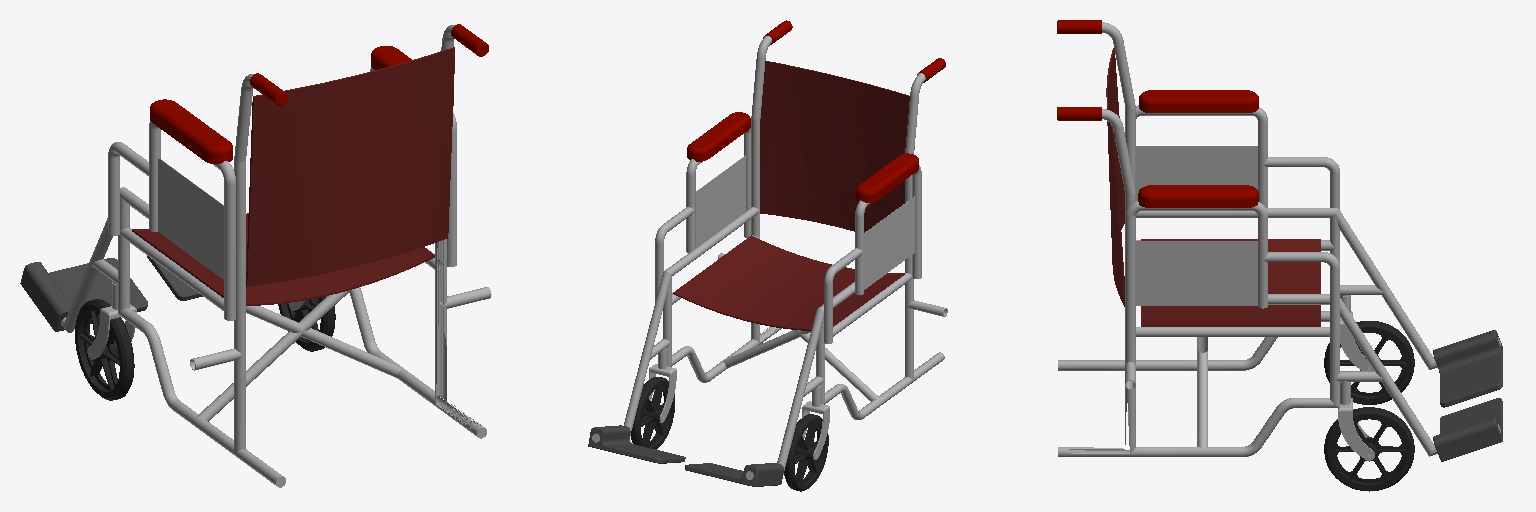
The robot description file, URDF, robot "my_robot":
<?xml version="1.0"?>
<!--
  Robot: my_robot
  Generated by: LinkForge v1.2.3
  https://github.com/arounamounchili/linkforge
  Date: 2026-02-17 03:53:01
-->
<robot name="my_robot">
  <!-- Materials -->
  <material name="b_Frame_001_">
    <color rgba="0.705882 0.705882 0.713726 1" />
  </material>
  <material name="b_Caster_fork_001_001">
    <color rgba="0.705882 0.705882 0.713726 1" />
  </material>
  <material name="b_Footplate_001_">
    <color rgba="0.329412 0.329412 0.329412 1" />
  </material>
  <material name="b_Footplate_001_001">
    <color rgba="0.329412 0.329412 0.329412 1" />
  </material>
  <material name="b_Seat_001_">
    <color rgba="0.419608 0.156863 0.145098 1" />
  </material>
  <material name="b_Backrest_001_">
    <color rgba="0.419608 0.156863 0.145098 1" />
  </material>
  <material name="b_Side_panel_001_">
    <color rgba="0.705882 0.705882 0.713726 1" />
  </material>
  <material name="b_Side_panel_001_001">
    <color rgba="0.705882 0.705882 0.713726 1" />
  </material>
  <material name="b_Armrest_001_">
    <color rgba="0.576471 0.047059 0 1" />
  </material>
  <material name="b_Armrest_001_001">
    <color rgba="0.576471 0.047059 0 1" />
  </material>
  <material name="b_Push_handle_001_001">
    <color rgba="0.576471 0.047059 0 1" />
  </material>
  <material name="b_Push_handle_001_">
    <color rgba="0.576471 0.047059 0 1" />
  </material>
  <material name="b_Pin_001_001">
    <color rgba="0.8 0.8 0.8 1" />
  </material>
  <material name="b_Pin_001_">
    <color rgba="0.8 0.8 0.8 1" />
  </material>
  <material name="b_Rear_wheel_001_001">
    <color rgba="0.196078 0.196078 0.196078 1" />
  </material>
  <material name="b_Rear_wheel_001_">
    <color rgba="0.196078 0.196078 0.196078 1" />
  </material>
  <material name="b_Caster_wheel_001_">
    <color rgba="0.196078 0.196078 0.196078 1" />
  </material>
  <material name="b_Caster_wheel_001_001">
    <color rgba="0.196078 0.196078 0.196078 1" />
  </material>
  <!-- Links -->
  <link name="base_link">
    <visual>
      <origin xyz="0.2159 -0.455574 -0.326007" rpy="0 0 0" />
      <geometry>
        <mesh filename="package://wheelchair_description/meshes/base_link_visual.stl" />
      </geometry>
      <material name="b_Frame_001_" />
    </visual>
    <collision>
      <origin xyz="0.2159 -0.455578 -0.326007" rpy="0 0 0" />
      <geometry>
        <mesh filename="package://wheelchair_description/meshes/base_link_collision.stl" />
      </geometry>
    </collision>
    <inertial>
      <mass value="1" />
      <inertia ixx="0.089727" ixy="0" ixz="0" iyy="0.062793" iyz="0.020276" izz="0.072745" />
    </inertial>
  </link>
  <link name="right_caster">
    <visual>
      <origin xyz="0.4318 -0.293335 -0.633983" rpy="0 0 0" />
      <geometry>
        <mesh filename="package://wheelchair_description/meshes/right_caster_visual.stl" />
      </geometry>
      <material name="b_Caster_fork_001_001" />
    </visual>
    <collision>
      <origin xyz="0.4318 -0.293335 -0.633983" rpy="0 0 0" />
      <geometry>
        <mesh filename="package://wheelchair_description/meshes/right_caster_collision.stl" />
      </geometry>
    </collision>
    <inertial>
      <mass value="1" />
      <inertia ixx="0.002167" ixy="0" ixz="0" iyy="0.002068" iyz="0.000541" izz="0.000631" />
    </inertial>
  </link>
  <link name="left_caster">
    <visual>
      <origin xyz="0 -0.293335 -0.633983" rpy="0 0 0" />
      <geometry>
        <mesh filename="package://wheelchair_description/meshes/left_caster_visual.stl" />
      </geometry>
      <material name="b_Caster_fork_001_001" />
    </visual>
    <collision>
      <origin xyz="0 -0.293335 -0.633983" rpy="0 0 0" />
      <geometry>
        <mesh filename="package://wheelchair_description/meshes/left_caster_collision.stl" />
      </geometry>
    </collision>
    <inertial>
      <mass value="1" />
      <inertia ixx="0.002167" ixy="0" ixz="0" iyy="0.002068" iyz="0.000541" izz="0.000631" />
    </inertial>
  </link>
  <link name="right_pedal">
    <visual>
      <origin xyz="0.34925 -0.057806 -0.687826" rpy="0 0 0" />
      <geometry>
        <mesh filename="package://wheelchair_description/meshes/right_pedal_visual.stl" />
      </geometry>
      <material name="b_Footplate_001_" />
    </visual>
    <collision>
      <origin xyz="0.34925 -0.057806 -0.687826" rpy="0 0 0" />
      <geometry>
        <mesh filename="package://wheelchair_description/meshes/right_pedal_collision.stl" />
      </geometry>
    </collision>
    <inertial>
      <mass value="1" />
      <inertia ixx="0.001777" ixy="0.000099" ixz="-0.000273" iyy="0.003236" iyz="-0.000468" izz="0.00435" />
    </inertial>
  </link>
  <link name="left_pedal">
    <visual>
      <origin xyz="0.08255 -0.057806 -0.687826" rpy="0 0 0" />
      <geometry>
        <mesh filename="package://wheelchair_description/meshes/left_pedal_visual.stl" />
      </geometry>
      <material name="b_Footplate_001_001" />
    </visual>
    <collision>
      <origin xyz="0.08255 -0.057806 -0.687826" rpy="0 0 0" />
      <geometry>
        <mesh filename="package://wheelchair_description/meshes/left_pedal_collision.stl" />
      </geometry>
    </collision>
    <inertial>
      <mass value="1" />
      <inertia ixx="0.001777" ixy="-0.000099" ixz="0.000273" iyy="0.003236" iyz="-0.000468" izz="0.00435" />
    </inertial>
  </link>
  <link name="seat">
    <visual>
      <origin xyz="0.216573 -0.558772 -0.439478" rpy="0 0 0" />
      <geometry>
        <mesh filename="package://wheelchair_description/meshes/seat_visual.stl" />
      </geometry>
      <material name="b_Seat_001_" />
    </visual>
    <collision>
      <origin xyz="0.216573 -0.558772 -0.439478" rpy="0 0 0" />
      <geometry>
        <mesh filename="package://wheelchair_description/meshes/seat_collision.stl" />
      </geometry>
    </collision>
    <inertial>
      <mass value="1" />
      <inertia ixx="0.012154" ixy="0" ixz="-0.000008" iyy="0.010543" iyz="0" izz="0.022582" />
    </inertial>
  </link>
  <link name="back">
    <visual>
      <origin xyz="0.224352 -0.79993 -0.177682" rpy="0 0 0" />
      <geometry>
        <mesh filename="package://wheelchair_description/meshes/back_visual.stl" />
      </geometry>
      <material name="b_Backrest_001_" />
    </visual>
    <collision>
      <origin xyz="0.224352 -0.79993 -0.177682" rpy="0 0 0" />
      <geometry>
        <mesh filename="package://wheelchair_description/meshes/back_collision.stl" />
      </geometry>
    </collision>
    <inertial>
      <mass value="1" />
      <inertia ixx="0.013019" ixy="0.000002" ixz="-0.000024" iyy="0.024066" iyz="0.000649" izz="0.011195" />
    </inertial>
  </link>
  <link name="right_panel">
    <visual>
      <origin xyz="0.453228 -0.554478 -0.282352" rpy="0 0 0" />
      <geometry>
        <mesh filename="package://wheelchair_description/meshes/right_panel_visual.stl" />
      </geometry>
      <material name="b_Side_panel_001_" />
    </visual>
    <collision>
      <origin xyz="0.453228 -0.554478 -0.282352" rpy="0 0 0" />
      <geometry>
        <mesh filename="package://wheelchair_description/meshes/right_panel_collision.stl" />
      </geometry>
    </collision>
    <inertial>
      <mass value="1" />
      <inertia ixx="0.022916" ixy="0" ixz="0" iyy="0.007613" iyz="0.001771" izz="0.015384" />
    </inertial>
  </link>
  <link name="left_panel">
    <visual>
      <origin xyz="-0.021428 -0.554478 -0.282352" rpy="0 0 0" />
      <geometry>
        <mesh filename="package://wheelchair_description/meshes/left_panel_visual.stl" />
      </geometry>
      <material name="b_Side_panel_001_001" />
    </visual>
    <collision>
      <origin xyz="-0.021428 -0.554478 -0.282352" rpy="0 0 0" />
      <geometry>
        <mesh filename="package://wheelchair_description/meshes/left_panel_collision.stl" />
      </geometry>
    </collision>
    <inertial>
      <mass value="1" />
      <inertia ixx="0.022916" ixy="0" ixz="0" iyy="0.007613" iyz="0.001771" izz="0.015384" />
    </inertial>
  </link>
  <link name="right_armrest">
    <visual>
      <origin xyz="0.453217 -0.626837 -0.113286" rpy="0 0 0" />
      <geometry>
        <mesh filename="package://wheelchair_description/meshes/right_armrest_visual.stl" />
      </geometry>
      <material name="b_Armrest_001_" />
    </visual>
    <collision>
      <origin xyz="0.453217 -0.626837 -0.113286" rpy="0 0 0" />
      <geometry>
        <mesh filename="package://wheelchair_description/meshes/right_armrest_collision.stl" />
      </geometry>
    </collision>
    <inertial>
      <mass value="1" />
      <inertia ixx="0.004929" ixy="0" ixz="0" iyy="0.000325" iyz="0" izz="0.005095" />
    </inertial>
  </link>
  <link name="left_armrest">
    <visual>
      <origin xyz="-0.021373 -0.625889 -0.113303" rpy="0 0 0" />
      <geometry>
        <mesh filename="package://wheelchair_description/meshes/left_armrest_visual.stl" />
      </geometry>
      <material name="b_Armrest_001_001" />
    </visual>
    <collision>
      <origin xyz="-0.021373 -0.625889 -0.113303" rpy="0 0 0" />
      <geometry>
        <mesh filename="package://wheelchair_description/meshes/left_armrest_collision.stl" />
      </geometry>
    </collision>
    <inertial>
      <mass value="1" />
      <inertia ixx="0.004929" ixy="0" ixz="0.000001" iyy="0.000325" iyz="0" izz="0.005095" />
    </inertial>
  </link>
  <link name="right_handle">
    <visual>
      <origin xyz="0.4318 -0.878328 0.067693" rpy="0 0 0" />
      <geometry>
        <mesh filename="package://wheelchair_description/meshes/right_handle_visual.stl" />
      </geometry>
      <material name="b_Push_handle_001_001" />
    </visual>
    <collision>
      <origin xyz="0.4318 -0.878328 0.067693" rpy="0 0 0" />
      <geometry>
        <mesh filename="package://wheelchair_description/meshes/right_handle_collision.stl" />
      </geometry>
    </collision>
    <inertial>
      <mass value="1" />
      <inertia ixx="0.000804" ixy="0" ixz="0" iyy="0.000102" iyz="0" izz="0.000804" />
    </inertial>
  </link>
  <link name="left_handle">
    <visual>
      <origin xyz="0 -0.878328 0.067693" rpy="0 0 0" />
      <geometry>
        <mesh filename="package://wheelchair_description/meshes/left_handle_visual.stl" />
      </geometry>
      <material name="b_Push_handle_001_" />
    </visual>
    <collision>
      <origin xyz="0 -0.878328 0.067693" rpy="0 0 0" />
      <geometry>
        <mesh filename="package://wheelchair_description/meshes/left_handle_collision.stl" />
      </geometry>
    </collision>
    <inertial>
      <mass value="1" />
      <inertia ixx="0.000804" ixy="0" ixz="0" iyy="0.000102" iyz="0" izz="0.000804" />
    </inertial>
  </link>
  <link name="right_pin">
    <visual>
      <origin xyz="0.4318 -0.266347 -0.713358" rpy="0 0 0" />
      <geometry>
        <mesh filename="package://wheelchair_description/meshes/right_pin_visual.stl" />
      </geometry>
      <material name="b_Pin_001_001" />
    </visual>
    <collision>
      <origin xyz="0.4318 -0.266347 -0.713358" rpy="0 0 0" />
      <geometry>
        <mesh filename="package://wheelchair_description/meshes/right_pin_collision.stl" />
      </geometry>
    </collision>
    <inertial>
      <mass value="1" />
      <inertia ixx="0.000008" ixy="0" ixz="0" iyy="0.000307" iyz="0" izz="0.000307" />
    </inertial>
  </link>
  <link name="left_pin">
    <visual>
      <origin xyz="0 -0.266347 -0.713358" rpy="0 0 0" />
      <geometry>
        <mesh filename="package://wheelchair_description/meshes/left_pin_visual.stl" />
      </geometry>
      <material name="b_Pin_001_" />
    </visual>
    <collision>
      <origin xyz="0 -0.266347 -0.713358" rpy="0 0 0" />
      <geometry>
        <mesh filename="package://wheelchair_description/meshes/left_pin_collision.stl" />
      </geometry>
    </collision>
    <inertial>
      <mass value="1" />
      <inertia ixx="0.000008" ixy="0" ixz="0" iyy="0.000307" iyz="0" izz="0.000307" />
    </inertial>
  </link>
  <link name="rightbackwheel">
    <visual>
      <origin xyz="-0.028701 -0.000077 -0.000413" rpy="0 0 0" />
      <geometry>
        <mesh filename="package://wheelchair_description/meshes/rightbackwheel_visual.stl" />
      </geometry>
      <material name="b_Rear_wheel_001_001" />
    </visual>
    <collision>
      <origin xyz="-0.028701 -0.000077 -0.000413" rpy="0 0 0" />
      <geometry>
        <mesh filename="package://wheelchair_description/meshes/rightbackwheel_collision.stl" />
      </geometry>
    </collision>
    <inertial>
      <mass value="1" />
      <inertia ixx="0.040936" ixy="0" ixz="0" iyy="0.020867" iyz="0" izz="0.020867" />
    </inertial>
  </link>
  <link name="leftbackwheel">
    <visual>
      <origin xyz="0.028684 0.000118 -0.000308" rpy="0 0 0" />
      <geometry>
        <mesh filename="package://wheelchair_description/meshes/leftbackwheel_visual.stl" />
      </geometry>
      <material name="b_Rear_wheel_001_" />
    </visual>
    <collision>
      <origin xyz="0.028684 0.000118 -0.000308" rpy="0 0 0" />
      <geometry>
        <mesh filename="package://wheelchair_description/meshes/leftbackwheel_collision.stl" />
      </geometry>
    </collision>
    <inertial>
      <mass value="1" />
      <inertia ixx="0.040937" ixy="0" ixz="0" iyy="0.020867" iyz="0" izz="0.020867" />
    </inertial>
  </link>
  <link name="leftfrontwheel">
    <visual>
      <origin xyz="0 0 -0.000052" rpy="0 0 0" />
      <geometry>
        <mesh filename="package://wheelchair_description/meshes/leftfrontwheel_visual.stl" />
      </geometry>
      <material name="b_Caster_wheel_001_" />
    </visual>
    <collision>
      <origin xyz="0 0 -0.000052" rpy="0 0 0" />
      <geometry>
        <mesh filename="package://wheelchair_description/meshes/leftfrontwheel_collision.stl" />
      </geometry>
    </collision>
    <inertial>
      <mass value="1" />
      <inertia ixx="0.003811" ixy="0" ixz="0" iyy="0.002029" iyz="0" izz="0.002029" />
    </inertial>
  </link>
  <link name="rightfrontwheel">
    <visual>
      <origin xyz="0.000002 0 -0.000052" rpy="0 0 0" />
      <geometry>
        <mesh filename="package://wheelchair_description/meshes/rightfrontwheel_visual.stl" />
      </geometry>
      <material name="b_Caster_wheel_001_001" />
    </visual>
    <collision>
      <origin xyz="0.000002 0 -0.000052" rpy="0 0 0" />
      <geometry>
        <mesh filename="package://wheelchair_description/meshes/rightfrontwheel_collision.stl" />
      </geometry>
    </collision>
    <inertial>
      <mass value="1" />
      <inertia ixx="0.003811" ixy="0" ixz="0" iyy="0.002029" iyz="0" izz="0.002029" />
    </inertial>
  </link>
  <!-- Joints -->
  <joint name="right_caster_joint" type="fixed">
    <parent link="base_link" />
    <child link="right_caster" />
  </joint>
  <joint name="left_caster_joint" type="fixed">
    <parent link="base_link" />
    <child link="left_caster" />
  </joint>
  <joint name="right_pedal_joint" type="fixed">
    <parent link="base_link" />
    <child link="right_pedal" />
  </joint>
  <joint name="left_pedal_joint" type="fixed">
    <parent link="base_link" />
    <child link="left_pedal" />
  </joint>
  <joint name="seat_joint" type="fixed">
    <parent link="base_link" />
    <child link="seat" />
  </joint>
  <joint name="back_joint" type="fixed">
    <parent link="base_link" />
    <child link="back" />
  </joint>
  <joint name="right_panel_joint" type="fixed">
    <parent link="base_link" />
    <child link="right_panel" />
  </joint>
  <joint name="left_panel_joint" type="fixed">
    <parent link="base_link" />
    <child link="left_panel" />
  </joint>
  <joint name="right_armrest_joint" type="fixed">
    <parent link="right_panel" />
    <child link="right_armrest" />
  </joint>
  <joint name="left_armrest_joint" type="fixed">
    <parent link="left_panel" />
    <child link="left_armrest" />
  </joint>
  <joint name="right_handle_joint" type="fixed">
    <parent link="base_link" />
    <child link="right_handle" />
  </joint>
  <joint name="left_handle_joint" type="fixed">
    <parent link="base_link" />
    <child link="left_handle" />
  </joint>
  <joint name="right_pin_joint" type="fixed">
    <parent link="right_caster" />
    <child link="right_pin" />
  </joint>
  <joint name="left_pin_joint" type="fixed">
    <parent link="left_caster" />
    <child link="left_pin" />
  </joint>
  <joint name="rightbackwheel_joint" type="continuous">
    <origin xyz="0.52825 -0.7703 -0.516094" rpy="0 0 0" />
    <parent link="base_link" />
    <child link="rightbackwheel" />
    <axis xyz="1 0 0" />
    <limit effort="100" velocity="100" />
  </joint>
  <joint name="leftbackwheel_joint" type="continuous">
    <origin xyz="-0.096433 -0.770495 -0.516199" rpy="0 0 0" />
    <parent link="base_link" />
    <child link="leftbackwheel" />
    <axis xyz="1 0 0" />
    <limit effort="100" velocity="100" />
  </joint>
  <joint name="leftfrontwheel_joint" type="continuous">
    <origin xyz="0 -0.266347 -0.713306" rpy="0 0 0" />
    <parent link="left_caster" />
    <child link="leftfrontwheel" />
    <axis xyz="1 0 0" />
    <limit effort="100" velocity="100" />
  </joint>
  <joint name="rightfrontwheel_joint" type="continuous">
    <origin xyz="0.431798 -0.266347 -0.713306" rpy="0 0 0" />
    <parent link="right_caster" />
    <child link="rightfrontwheel" />
    <axis xyz="1 0 0" />
    <limit effort="100" velocity="100" />
  </joint>
</robot>

--- What the picture shows (computed from the rendered views, not written in the file) ---
The picture shows the robot from 3 angles, left to right: view 1: azimuth 30°, elevation 25°; view 2: azimuth 150°, elevation 25°; view 3: azimuth 270°, elevation 25°; orthographic projection.
Robot: my_robot — 19 links, 18 joints (4 continuous, 14 fixed); root link base_link; default pose: all joints at 0.
Visible links, largest first — view 1: back, base_link, left_panel, seat, leftfrontwheel, left_pedal, left_armrest, rightfrontwheel, right_panel, left_caster, right_pedal, right_armrest (+2 smaller); view 2: back, base_link, seat, left_panel, right_panel, leftfrontwheel, rightfrontwheel, right_pedal, right_armrest, left_armrest, left_pedal, right_caster (+1 smaller); view 3: base_link, right_panel, left_panel, seat, left_pedal, rightfrontwheel, right_pedal, right_armrest, left_armrest, back, leftfrontwheel, right_caster (+3 smaller).
Boxes of the visible links, x1,y1,x2,y2 form: back: (246,47,454,286); base_link: (61,25,491,487); left_panel: (108,121,235,320); seat: (132,213,434,305); leftfrontwheel: (75,299,134,400); left_pedal: (20,258,147,331); left_armrest: (150,99,232,163); rightfrontwheel: (278,296,335,351); right_panel: (370,67,456,266); left_caster: (87,281,136,359); right_pedal: (147,256,202,300); right_armrest: (371,46,453,105); back: (760,61,909,232); base_link: (592,36,947,479); seat: (673,235,904,330); left_panel: (824,165,921,343); right_panel: (655,128,750,297); leftfrontwheel: (784,414,828,491); rightfrontwheel: (630,377,674,449); right_pedal: (588,425,685,463); right_armrest: (687,112,750,161); left_armrest: (855,153,918,202); left_pedal: (685,463,783,486); right_caster: (648,348,676,422); base_link: (1058,22,1500,456); right_panel: (1125,201,1339,338); left_panel: (1136,105,1339,209); seat: (1141,239,1320,326); left_pedal: (1433,330,1502,407); rightfrontwheel: (1324,407,1414,491); right_pedal: (1433,398,1502,461); right_armrest: (1138,185,1258,207); left_armrest: (1139,90,1258,112); back: (1106,48,1124,306); leftfrontwheel: (1324,321,1414,404); right_caster: (1338,381,1374,460).
Size in the robot's own frame: 0.635 by 0.9418 by 0.8906 metres.
Meshes: 19 distinct files referenced, 17 mesh visuals loaded (17 binary STL); not drawn: 2 (file found but could not be loaded).